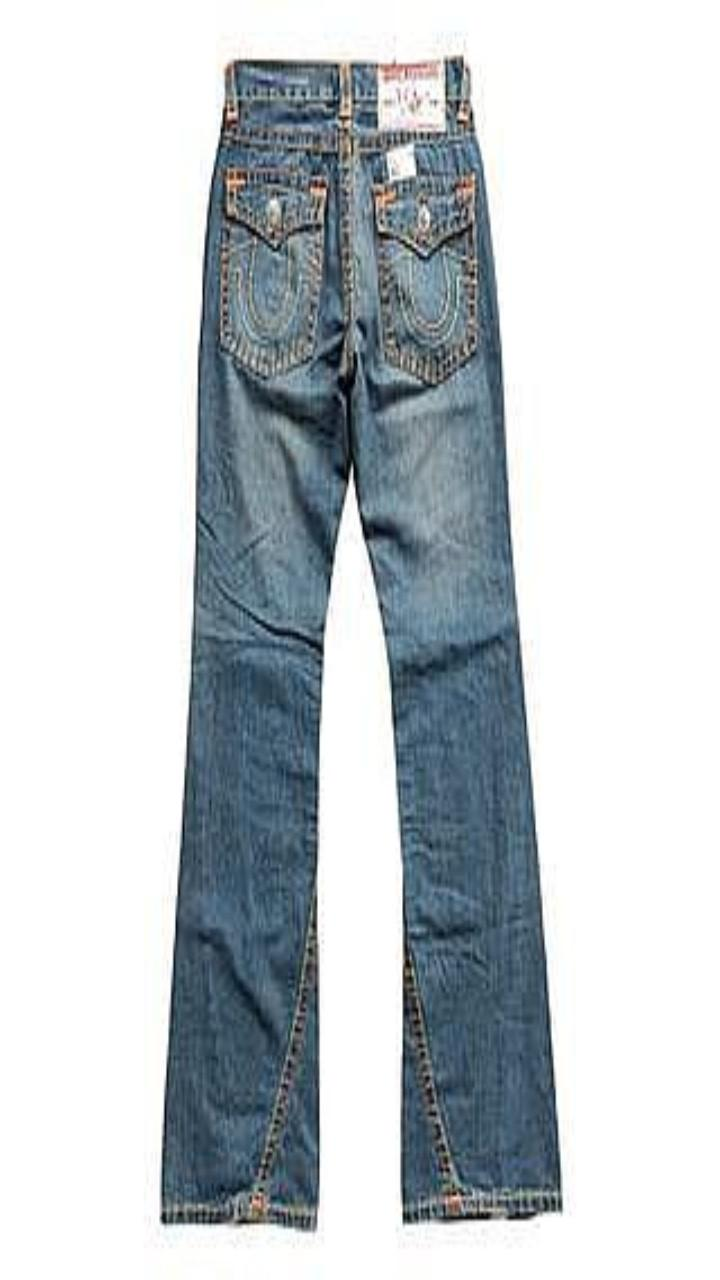Jeans: (162, 56, 560, 1227)
